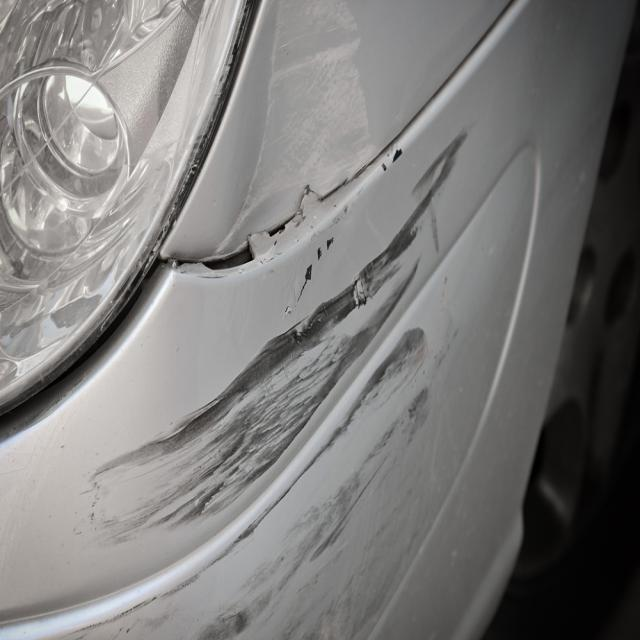dent: (223, 0, 368, 249)
scratch: (58, 125, 471, 640)
